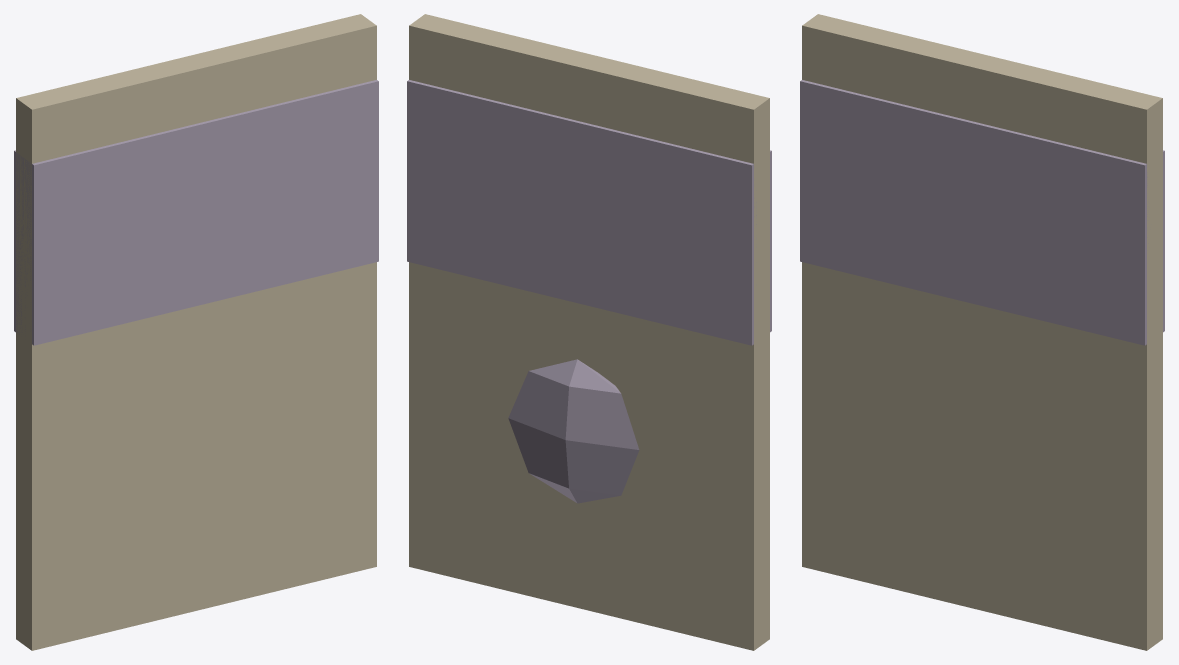
File: tool_seed_packet_turnip.glb
3 views of the same model, side by side, from view 1: azimuth 30°, elevation 25°; view 2: azimuth 150°, elevation 25°; view 3: azimuth 330°, elevation 25° (orthographic).
Visible parts, largest first — view 1: Packet; view 2: Packet; view 3: Packet.
Part boxes in pixels (x1,y1,x2,y2): Packet: (14, 14, 378, 650); Packet: (407, 14, 771, 650); Packet: (800, 14, 1164, 650).
Bounding box in the file's own units: 0.1 × 0.15 × 0.017.
